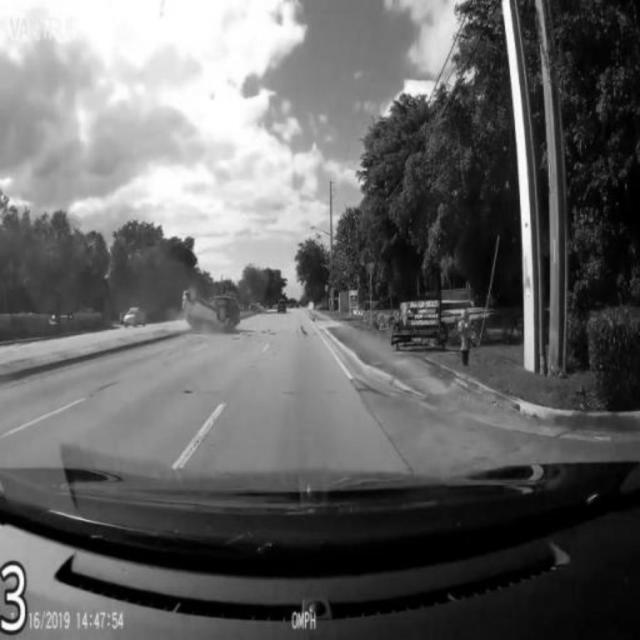accident: (176, 285, 246, 332)
vehicle: (117, 304, 153, 330)
